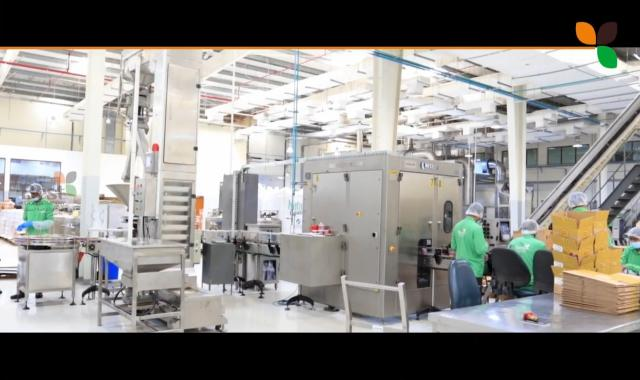hairnet: (518, 217, 538, 237), (568, 190, 586, 210), (467, 201, 483, 221), (25, 182, 43, 197), (626, 226, 640, 243)
